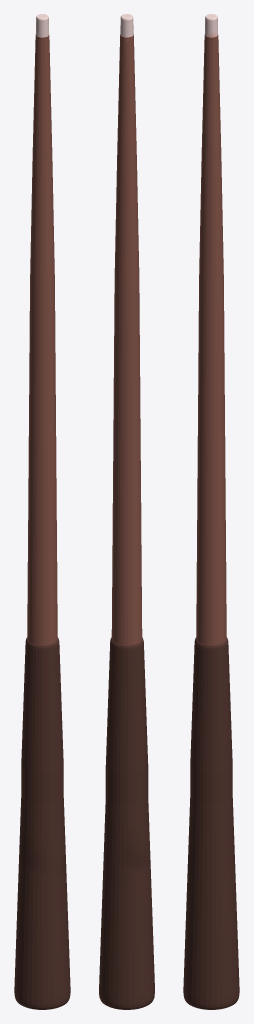
The model's file is BilliardsStick.fbx.
The picture shows the model from 3 angles, left to right: view 1: azimuth 90°, elevation 25°; view 2: azimuth 150°, elevation 25°; view 3: azimuth 270°, elevation 25°; orthographic projection.
Parts seen in each view (by area): view 1: 円柱; view 2: 円柱; view 3: 円柱.
Boxes of the visible parts, box(x1,y1,x2,y2) form: 円柱: box(14, 14, 70, 1009); 円柱: box(99, 14, 154, 1009); 円柱: box(183, 14, 239, 1009).
Size of the model in its own units: 84.48 by 1635 by 84.48.
1 material, 1 textured.
